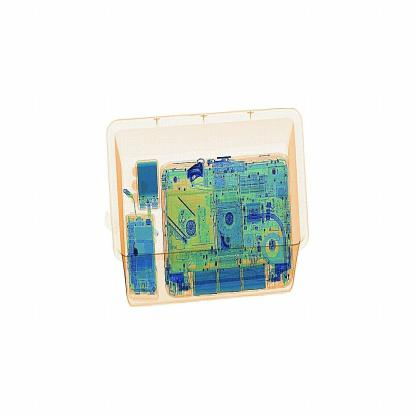knife: (187, 157, 208, 185)
